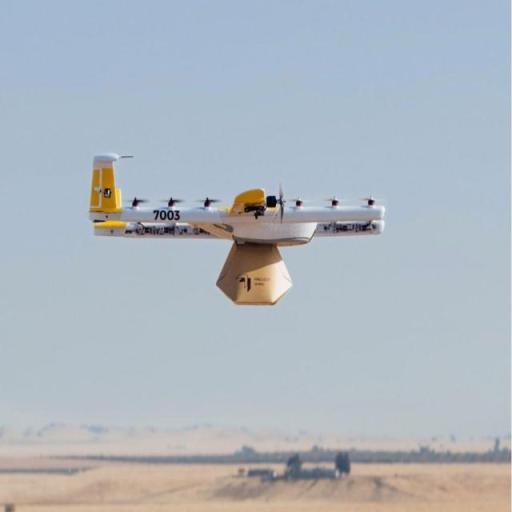uav: (72, 148, 394, 302)
